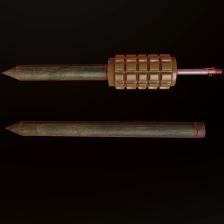POMZ2: (6, 50, 224, 96), (7, 114, 216, 145)
